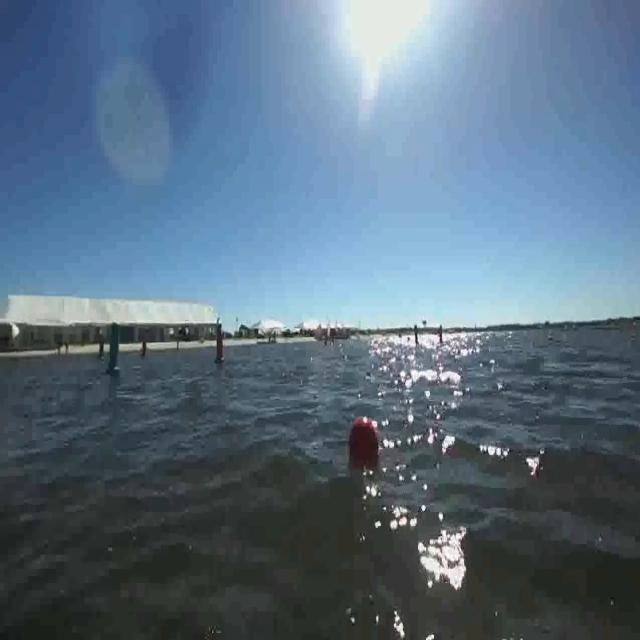green-column-buoy: (105, 321, 124, 375)
red-buoy: (346, 412, 380, 466)
red-column-buoy: (214, 328, 227, 366), (139, 336, 150, 360)
